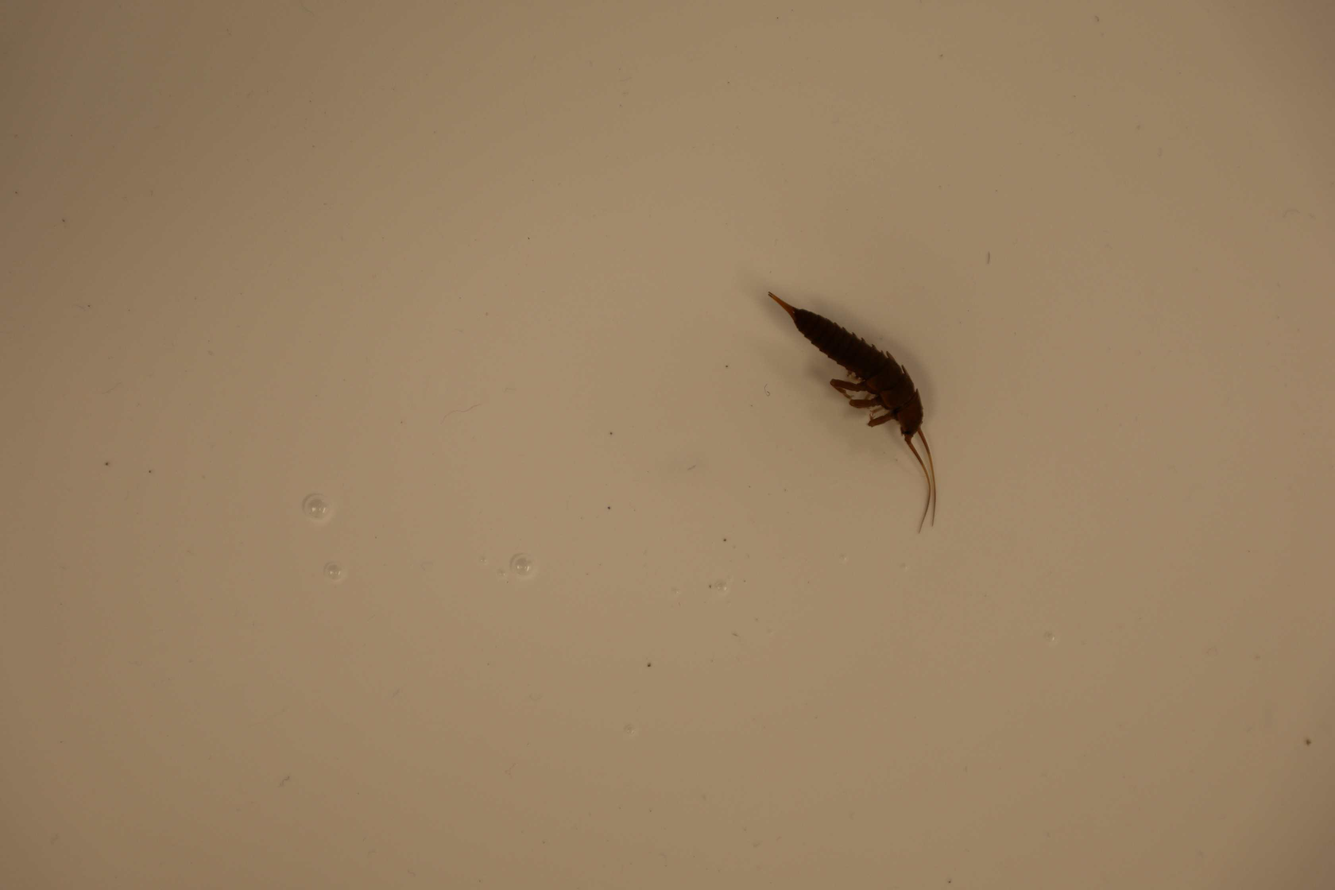Stonefly: (766, 284, 944, 538)
